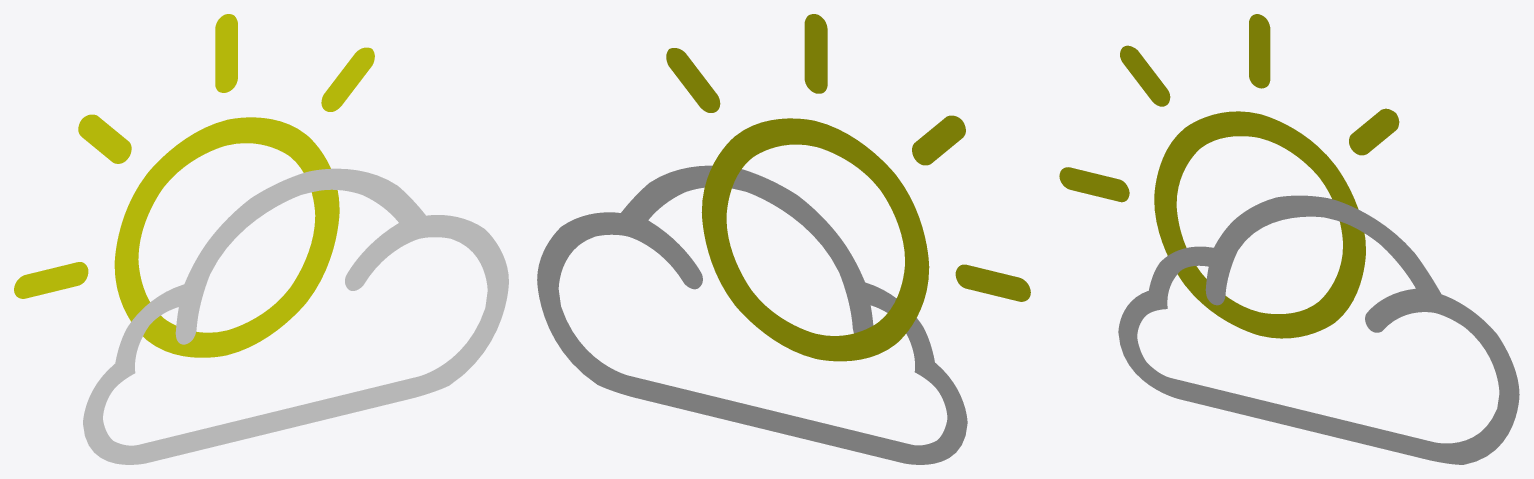
Rendered from pcloudy.glb.
3 views of the same model, side by side, from view 1: azimuth 30°, elevation 25°; view 2: azimuth 150°, elevation 25°; view 3: azimuth 330°, elevation 25° (orthographic). The views are drawn at different scales.
Visible parts, largest first — view 1: Cloud.007, Sun part.002; view 2: Cloud.007, Sun part.002; view 3: Cloud.007, Sun part.002.
Part boxes in pixels (left/top/right/bottom): Cloud.007: left=83, top=168, right=508, bottom=464; Sun part.002: left=14, top=14, right=374, bottom=357; Cloud.007: left=537, top=165, right=967, bottom=464; Sun part.002: left=666, top=14, right=1030, bottom=361; Cloud.007: left=1118, top=195, right=1519, bottom=464; Sun part.002: left=1059, top=14, right=1399, bottom=338.
Bounding box in the file's own units: 0.7633 × 0.6325 × 0.00853.
